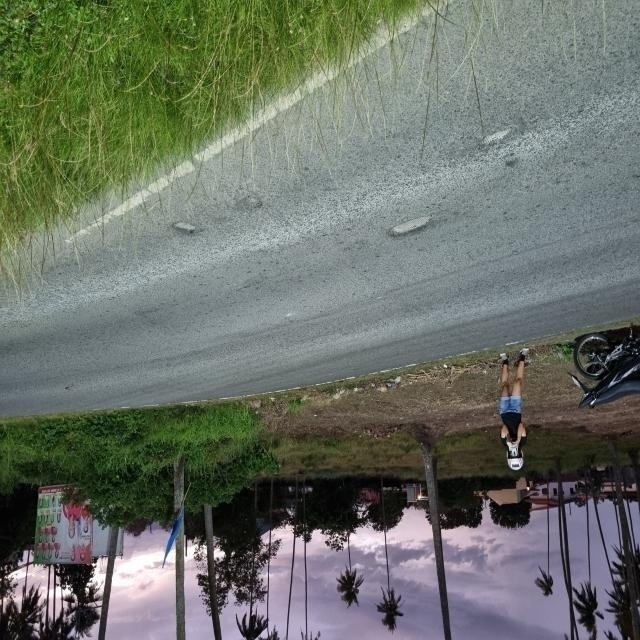pothole: (371, 194, 446, 248), (479, 120, 526, 168), (158, 214, 204, 240)
